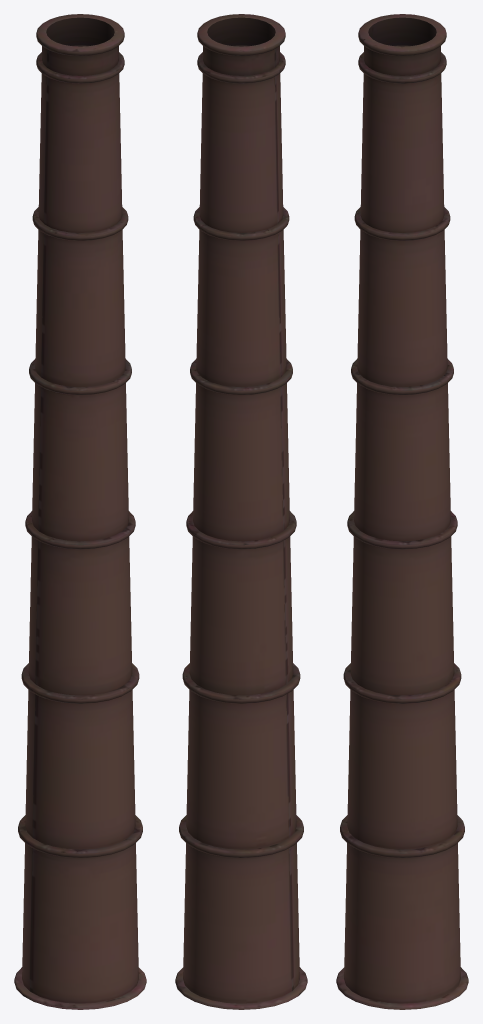
3 renders of one model, left to right at view 1: azimuth 30°, elevation 25°; view 2: azimuth 150°, elevation 25°; view 3: azimuth 330°, elevation 25°, orthographic.
Parts seen in each view (by area): view 1: body0_model0_lod0_mesh0; view 2: body0_model0_lod0_mesh0; view 3: body0_model0_lod0_mesh0.
Part boxes in pixels (left/top/right/bottom): body0_model0_lod0_mesh0: left=14, top=14, right=146, bottom=1009; body0_model0_lod0_mesh0: left=175, top=14, right=307, bottom=1009; body0_model0_lod0_mesh0: left=336, top=14, right=468, bottom=1009.
Size of the model in its own units: 144 by 1138 by 144.
Materials: 1 (1 with a texture image).
